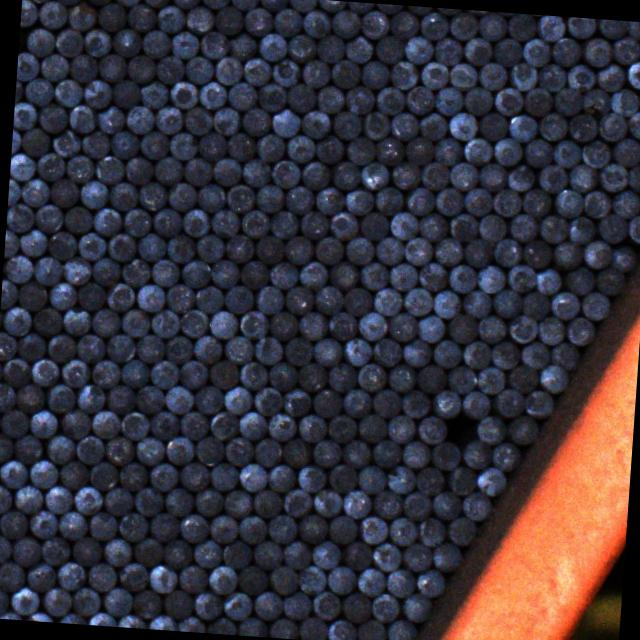tool: (506, 414, 538, 446), (178, 459, 210, 490), (492, 387, 524, 418), (284, 81, 316, 112), (330, 108, 361, 140), (341, 590, 372, 621), (153, 155, 184, 186), (329, 8, 360, 39), (447, 312, 478, 343), (328, 57, 359, 88), (195, 131, 226, 162), (110, 28, 142, 58), (162, 538, 192, 570), (24, 26, 56, 56), (132, 536, 162, 568), (551, 36, 581, 68), (237, 564, 267, 596), (36, 102, 68, 132), (178, 511, 208, 542), (116, 511, 146, 542), (285, 34, 316, 64), (106, 382, 136, 413), (105, 181, 136, 211), (150, 409, 180, 440), (581, 138, 612, 168), (270, 107, 300, 138), (416, 517, 446, 548), (18, 280, 48, 311), (112, 77, 142, 108), (522, 85, 553, 115), (536, 162, 567, 192), (96, 1, 126, 32), (344, 136, 375, 166), (181, 156, 211, 187), (214, 5, 244, 36), (255, 82, 286, 112), (91, 206, 122, 236), (388, 8, 419, 38), (60, 408, 90, 439), (300, 108, 331, 138), (240, 107, 271, 137), (67, 0, 98, 30), (300, 159, 330, 190), (594, 266, 625, 296), (94, 153, 124, 184), (566, 112, 597, 142), (507, 362, 538, 392), (184, 106, 215, 136), (84, 77, 114, 108), (95, 103, 125, 134), (433, 84, 462, 116), (118, 410, 148, 440), (104, 332, 134, 362), (272, 6, 302, 36), (150, 308, 180, 338), (194, 436, 224, 466), (148, 510, 178, 540), (74, 433, 104, 463), (298, 209, 328, 239), (491, 440, 521, 470), (460, 438, 490, 468), (301, 57, 331, 87), (474, 466, 504, 496), (268, 564, 298, 594), (86, 510, 116, 540), (162, 382, 192, 412), (356, 360, 386, 390), (416, 260, 446, 290), (88, 359, 118, 389), (312, 387, 342, 417), (326, 413, 356, 443), (313, 337, 343, 367), (282, 487, 312, 517), (1, 356, 31, 386), (251, 538, 281, 568), (580, 290, 610, 320), (138, 78, 168, 108), (405, 84, 435, 114), (120, 258, 150, 288), (209, 512, 239, 542), (416, 210, 446, 240), (296, 360, 326, 390), (28, 459, 58, 489), (10, 536, 40, 566), (223, 282, 253, 312), (2, 306, 32, 336), (135, 436, 165, 466), (386, 362, 416, 392), (252, 589, 282, 619), (537, 110, 567, 140), (300, 7, 330, 37), (35, 152, 65, 182), (116, 562, 146, 592), (244, 5, 274, 35), (59, 460, 89, 490), (372, 540, 402, 570), (220, 538, 250, 568), (148, 462, 178, 492), (14, 384, 44, 414), (178, 358, 208, 388), (192, 384, 222, 414), (138, 130, 168, 160), (126, 53, 156, 83), (446, 262, 476, 292), (417, 362, 447, 392), (370, 592, 400, 622), (266, 360, 296, 390), (133, 588, 163, 618), (46, 331, 76, 361), (19, 178, 49, 208), (136, 232, 166, 262), (122, 206, 152, 236), (400, 592, 430, 622), (448, 160, 478, 190), (134, 485, 164, 515), (476, 314, 506, 344), (32, 204, 62, 234), (266, 514, 296, 544), (326, 514, 356, 544), (401, 489, 431, 519), (449, 12, 479, 42), (370, 440, 400, 470), (432, 490, 462, 520), (596, 213, 626, 243), (163, 589, 193, 619), (238, 258, 268, 288), (222, 384, 252, 414), (242, 55, 272, 85), (282, 182, 312, 212), (386, 567, 416, 597), (492, 87, 522, 117), (208, 358, 238, 388), (60, 255, 90, 285), (328, 261, 358, 291), (462, 36, 492, 66), (460, 287, 490, 317), (104, 232, 134, 262), (162, 334, 192, 364), (431, 541, 461, 571), (71, 536, 101, 566), (252, 436, 282, 466), (508, 314, 538, 344), (416, 568, 446, 598), (240, 156, 270, 186), (341, 286, 371, 316), (330, 160, 360, 190), (370, 338, 400, 368), (268, 310, 298, 340), (358, 8, 388, 38), (432, 288, 462, 318), (196, 181, 226, 211), (521, 38, 551, 68), (65, 152, 95, 182), (152, 207, 182, 237), (197, 30, 227, 60), (374, 34, 404, 64), (518, 340, 548, 370), (475, 10, 505, 40), (462, 184, 492, 214), (522, 136, 552, 166), (296, 513, 326, 543), (101, 484, 131, 514), (125, 103, 155, 133), (430, 440, 460, 470), (48, 230, 78, 260), (68, 54, 98, 84), (448, 210, 478, 240), (460, 340, 490, 370), (32, 254, 62, 284), (419, 10, 449, 40), (26, 562, 56, 592), (389, 60, 419, 90), (224, 232, 254, 262), (228, 81, 258, 111), (212, 55, 242, 85), (462, 86, 492, 116), (98, 54, 128, 84), (596, 112, 626, 142), (82, 28, 112, 58), (432, 338, 462, 368), (255, 183, 285, 213), (371, 489, 401, 519), (50, 177, 80, 207), (208, 208, 238, 238), (388, 110, 418, 140), (137, 180, 167, 210), (152, 104, 182, 134), (170, 80, 200, 110), (610, 135, 640, 165), (342, 538, 372, 568), (166, 180, 196, 210), (448, 110, 478, 140), (256, 31, 286, 61), (2, 253, 32, 283), (521, 186, 551, 216), (256, 132, 286, 162), (491, 136, 521, 166), (38, 52, 68, 82), (418, 110, 448, 140), (554, 186, 584, 216), (255, 233, 285, 263), (522, 238, 552, 268), (165, 234, 195, 264), (314, 84, 344, 114), (52, 76, 82, 106), (170, 30, 200, 60), (344, 84, 374, 114), (18, 228, 48, 258), (21, 127, 51, 157), (154, 53, 184, 83), (252, 488, 282, 518), (77, 179, 107, 209), (553, 87, 583, 117), (268, 210, 298, 240), (92, 256, 122, 286), (476, 110, 506, 140), (154, 2, 184, 32), (358, 209, 388, 239), (184, 54, 214, 84), (270, 158, 300, 188), (432, 36, 462, 66), (314, 134, 344, 164), (360, 58, 390, 88), (344, 32, 374, 62), (552, 239, 582, 269), (492, 37, 522, 67), (30, 306, 60, 336), (141, 29, 171, 59), (596, 60, 626, 90), (284, 132, 314, 162), (226, 32, 256, 62), (536, 62, 566, 92), (196, 80, 226, 110), (476, 363, 506, 393), (78, 130, 108, 160), (108, 130, 138, 160), (563, 266, 593, 296), (269, 58, 299, 88), (211, 158, 241, 188), (374, 86, 404, 116), (580, 36, 610, 66), (224, 130, 254, 160), (51, 128, 81, 158), (21, 77, 52, 106), (6, 201, 34, 233), (178, 410, 207, 440), (403, 236, 432, 266), (254, 386, 283, 416), (312, 590, 341, 620), (192, 487, 222, 516), (239, 462, 268, 492), (328, 310, 357, 340), (38, 0, 68, 29), (163, 436, 192, 466), (462, 492, 492, 521), (72, 484, 101, 514), (149, 359, 178, 389), (296, 463, 326, 492), (325, 564, 354, 594), (41, 586, 70, 616), (207, 564, 236, 594), (87, 460, 116, 490), (29, 356, 58, 386), (12, 434, 41, 464), (119, 358, 148, 388), (90, 408, 119, 438), (388, 312, 417, 342), (342, 386, 371, 416), (403, 286, 432, 316), (134, 332, 163, 362), (298, 311, 327, 341), (430, 389, 460, 418), (358, 162, 387, 192), (312, 236, 342, 265), (58, 509, 87, 539), (296, 412, 326, 441), (224, 335, 253, 365), (177, 564, 206, 594), (281, 590, 310, 620), (163, 486, 192, 516), (222, 590, 251, 620), (193, 334, 222, 364), (356, 464, 385, 494), (313, 488, 342, 518), (358, 310, 387, 340), (388, 210, 417, 240), (76, 382, 105, 412), (40, 536, 69, 566), (404, 185, 434, 214), (104, 282, 133, 312), (102, 538, 131, 568), (401, 336, 430, 366), (388, 518, 417, 548), (460, 390, 489, 420), (298, 261, 327, 291), (147, 562, 176, 592), (178, 308, 207, 338), (28, 408, 57, 438), (447, 515, 476, 545), (105, 434, 134, 464), (414, 464, 443, 494), (150, 258, 180, 287), (59, 358, 88, 388), (478, 162, 507, 192), (390, 160, 420, 189), (490, 338, 519, 368), (375, 134, 404, 164), (566, 316, 595, 346), (91, 306, 120, 336), (222, 489, 251, 519), (207, 308, 236, 338), (282, 234, 311, 264), (608, 87, 638, 116), (134, 382, 163, 412), (373, 184, 402, 214), (402, 34, 432, 63), (327, 462, 356, 492), (16, 332, 46, 361), (522, 389, 552, 418), (549, 290, 578, 320), (339, 439, 368, 469), (284, 336, 313, 366), (330, 209, 359, 239), (509, 212, 538, 242), (239, 207, 268, 237), (582, 240, 611, 270), (508, 113, 538, 142), (76, 281, 105, 311), (76, 232, 105, 262), (344, 187, 374, 216), (45, 434, 74, 464), (180, 259, 210, 288), (120, 307, 150, 336), (597, 163, 626, 193), (328, 360, 357, 390), (507, 262, 537, 291), (435, 185, 464, 215), (62, 205, 92, 234), (478, 212, 507, 242), (226, 182, 255, 212), (567, 162, 596, 192), (169, 130, 198, 160), (537, 213, 566, 243), (180, 208, 209, 238), (476, 62, 506, 91), (60, 307, 90, 336), (582, 188, 611, 218), (67, 104, 96, 134), (564, 61, 594, 90), (419, 160, 448, 190), (446, 465, 475, 495), (126, 1, 156, 30), (448, 61, 478, 90), (374, 234, 403, 264), (465, 235, 494, 265), (122, 156, 152, 185), (208, 258, 237, 288), (403, 136, 433, 165), (211, 104, 240, 134), (166, 281, 194, 312), (13, 483, 42, 512), (386, 465, 415, 494), (400, 389, 429, 418), (432, 237, 461, 266), (312, 439, 341, 468), (282, 387, 311, 416), (268, 260, 297, 289), (358, 516, 387, 545), (117, 462, 146, 491), (57, 561, 86, 590), (491, 186, 520, 215), (341, 338, 370, 367), (371, 388, 400, 417), (550, 339, 579, 368), (358, 262, 387, 291), (388, 261, 417, 290), (537, 363, 566, 392), (238, 411, 267, 440), (9, 585, 38, 614), (476, 263, 505, 292), (419, 60, 448, 89), (433, 137, 462, 166), (314, 186, 343, 215), (297, 564, 325, 594), (341, 489, 369, 519), (238, 310, 266, 340), (134, 282, 164, 310), (0, 407, 28, 437), (474, 416, 504, 444), (48, 280, 76, 310), (76, 332, 104, 362), (104, 586, 132, 616), (238, 359, 266, 389), (254, 283, 282, 313), (492, 288, 520, 318), (282, 538, 310, 568), (210, 461, 238, 491), (266, 412, 294, 442), (446, 364, 474, 394), (72, 586, 100, 616), (280, 438, 308, 468), (400, 542, 430, 570), (508, 60, 536, 90), (356, 568, 384, 598), (316, 32, 344, 62), (224, 436, 252, 466), (238, 515, 266, 545), (314, 284, 342, 314), (612, 187, 640, 217), (360, 111, 388, 141), (462, 138, 492, 166), (284, 284, 312, 314), (54, 26, 82, 56), (416, 414, 444, 444), (520, 288, 548, 318), (536, 314, 564, 344), (506, 12, 536, 40), (552, 139, 580, 169), (46, 384, 74, 414), (184, 4, 214, 32), (210, 410, 238, 440), (566, 214, 594, 244), (612, 34, 640, 64), (196, 232, 224, 262), (580, 86, 608, 116), (28, 509, 56, 538), (192, 538, 220, 567), (385, 415, 413, 444), (356, 413, 384, 442), (373, 286, 402, 314), (254, 336, 282, 365), (416, 313, 444, 342), (311, 540, 340, 568), (194, 591, 222, 620), (492, 238, 520, 267), (86, 561, 114, 590), (266, 463, 294, 492), (343, 236, 372, 264), (506, 163, 534, 192), (194, 284, 222, 313), (0, 458, 27, 488), (44, 486, 72, 514), (609, 244, 637, 272), (535, 14, 565, 40), (12, 101, 38, 131), (402, 440, 429, 468), (534, 268, 561, 296), (0, 510, 26, 539), (298, 615, 328, 640), (0, 561, 24, 592), (9, 150, 34, 179), (16, 50, 39, 80), (386, 618, 416, 640), (564, 16, 594, 38), (355, 618, 384, 640), (326, 618, 355, 640), (267, 617, 295, 639), (596, 18, 626, 38), (238, 616, 266, 636), (0, 278, 17, 310), (207, 617, 236, 635), (147, 612, 175, 630), (177, 614, 205, 632), (20, 0, 37, 26), (4, 229, 19, 258), (0, 330, 15, 358), (626, 110, 640, 140), (626, 163, 640, 193), (626, 59, 640, 89), (0, 383, 14, 413), (116, 613, 144, 628), (88, 612, 116, 626), (627, 212, 640, 241), (7, 178, 20, 206), (317, 0, 347, 12), (0, 432, 12, 461), (58, 612, 87, 624), (348, 1, 376, 13), (26, 610, 54, 622), (0, 485, 11, 515), (288, 0, 318, 11), (373, 3, 402, 14), (257, 0, 287, 10), (0, 534, 10, 563), (404, 5, 433, 15), (11, 128, 21, 156), (227, 0, 257, 9), (626, 20, 640, 38), (14, 78, 23, 105), (170, 0, 200, 8), (199, 0, 228, 8), (0, 610, 22, 620), (141, 0, 171, 7), (0, 584, 7, 614), (433, 8, 461, 15), (112, 0, 141, 5)
void: (442, 416, 477, 445)
